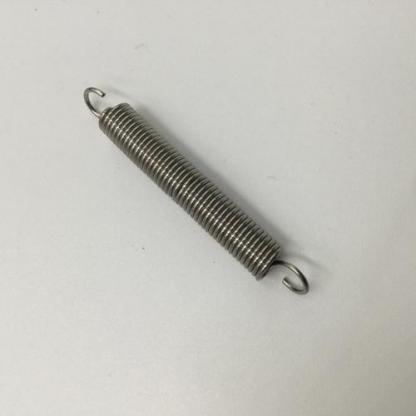FOD: (81, 83, 314, 298)
